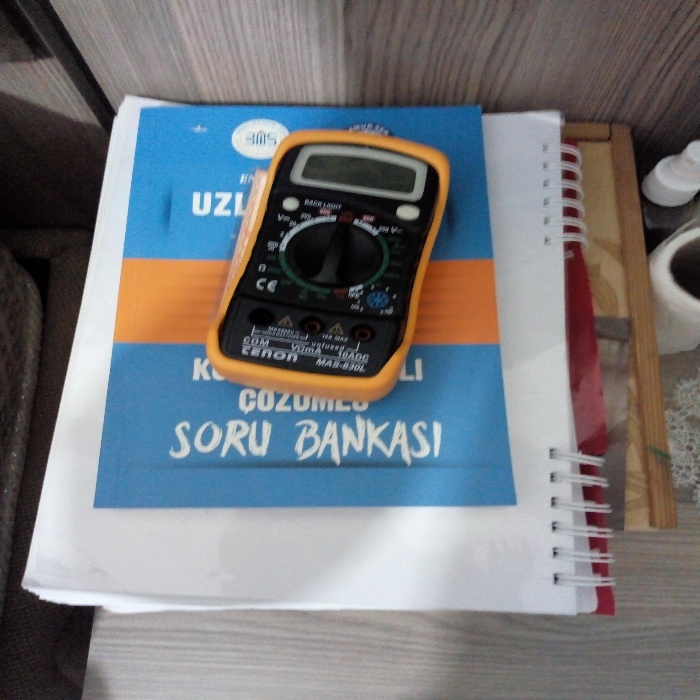multimetre: (208, 112, 453, 407)
